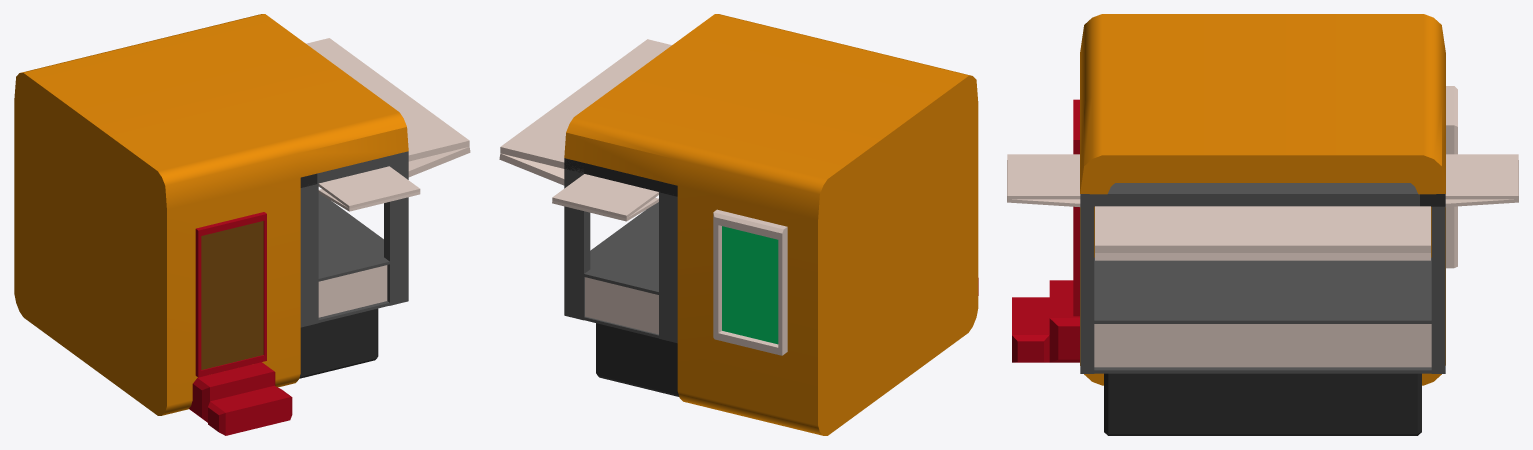
File: Shopping_Stall.fbx
3 views of the same model, side by side, from view 1: azimuth 30°, elevation 25°; view 2: azimuth 150°, elevation 25°; view 3: azimuth 270°, elevation 25° (orthographic). The views are drawn at different scales.
Parts seen in each view (by area): view 1: Shopping_stall; view 2: Shopping_stall; view 3: Shopping_stall.
Boxes of the visible parts, x1,y1,x2,y2 form: Shopping_stall: (14, 14, 470, 435); Shopping_stall: (499, 14, 978, 435); Shopping_stall: (1007, 14, 1518, 435).
Bounding box in the file's own units: 4.86 × 3.67 × 5.8.
